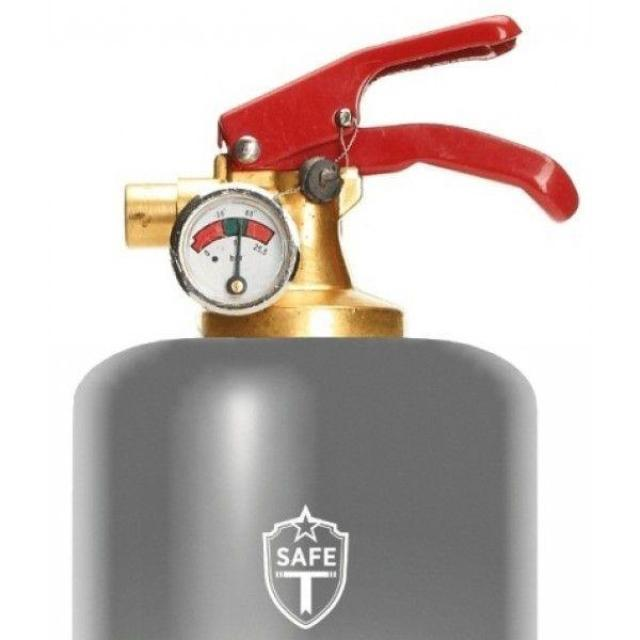fire_extinguisher: (65, 12, 582, 639)
